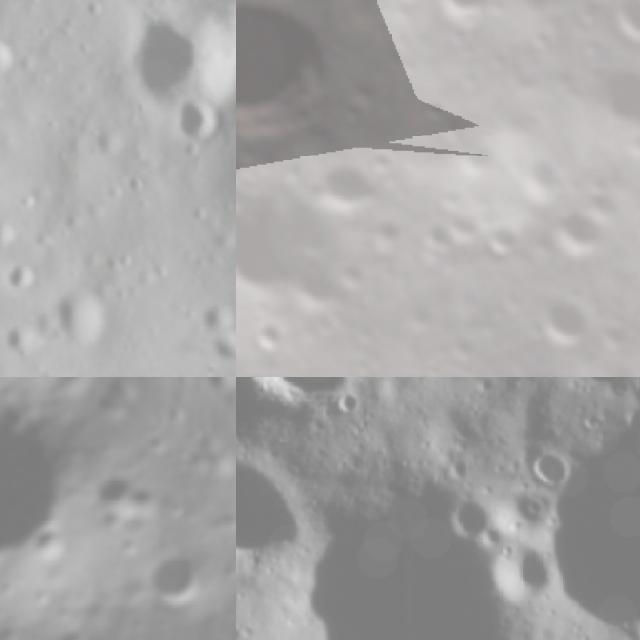crater: (236, 139, 381, 362), (0, 377, 121, 605), (236, 0, 361, 184), (108, 0, 236, 132), (518, 277, 609, 368), (568, 42, 640, 157), (35, 268, 122, 362), (130, 532, 218, 624), (300, 144, 386, 230), (236, 454, 302, 557), (536, 198, 611, 274), (78, 454, 152, 528), (156, 80, 229, 148), (502, 147, 566, 210), (413, 0, 505, 40), (484, 553, 549, 604), (589, 0, 640, 64), (0, 247, 50, 311), (576, 175, 632, 232), (482, 0, 584, 31), (446, 129, 501, 185), (473, 215, 526, 267), (0, 310, 50, 365), (239, 312, 291, 364), (411, 213, 462, 264), (409, 86, 458, 136), (0, 24, 35, 93), (189, 288, 236, 339), (593, 308, 640, 357), (328, 252, 376, 299), (366, 209, 414, 256), (394, 296, 439, 342), (11, 351, 84, 377), (361, 140, 404, 183), (442, 330, 486, 372), (0, 199, 30, 259), (190, 448, 236, 484), (444, 208, 483, 248), (450, 499, 490, 538), (333, 94, 371, 134), (430, 181, 470, 219), (49, 611, 101, 640), (534, 442, 564, 491), (221, 518, 236, 585), (0, 0, 16, 57), (236, 141, 252, 197), (631, 293, 640, 335)
